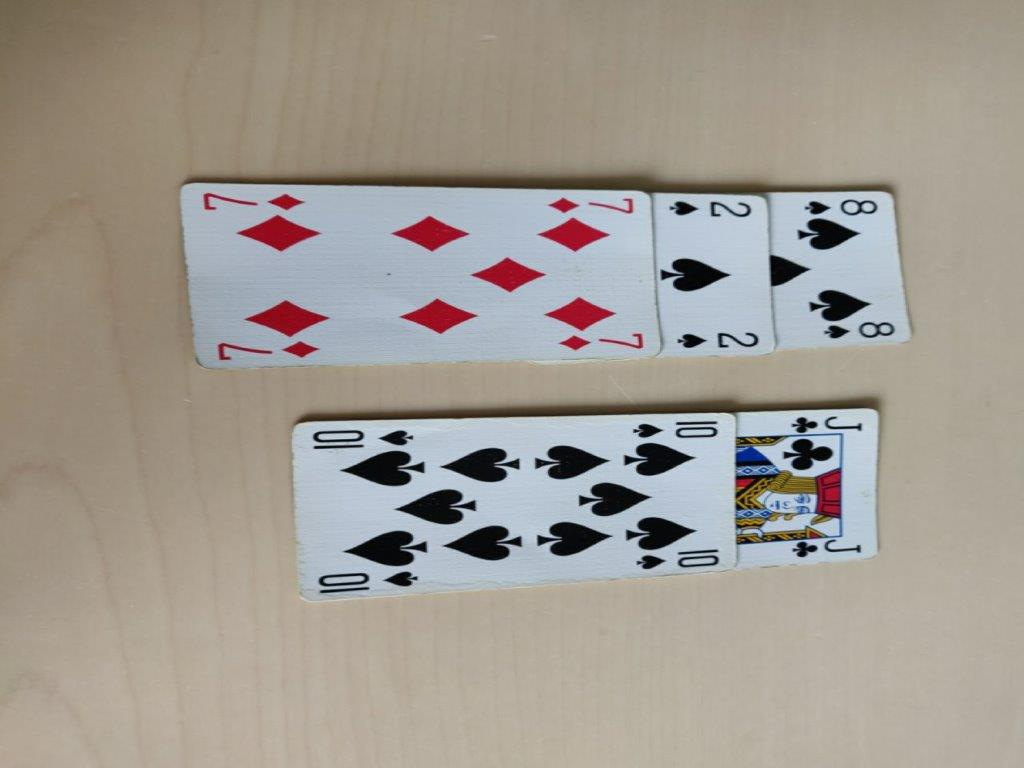10S: (289, 411, 734, 595)
2S: (649, 188, 770, 359)
7D: (181, 179, 654, 364)
8S: (770, 193, 901, 345)
JC: (739, 413, 878, 563)
